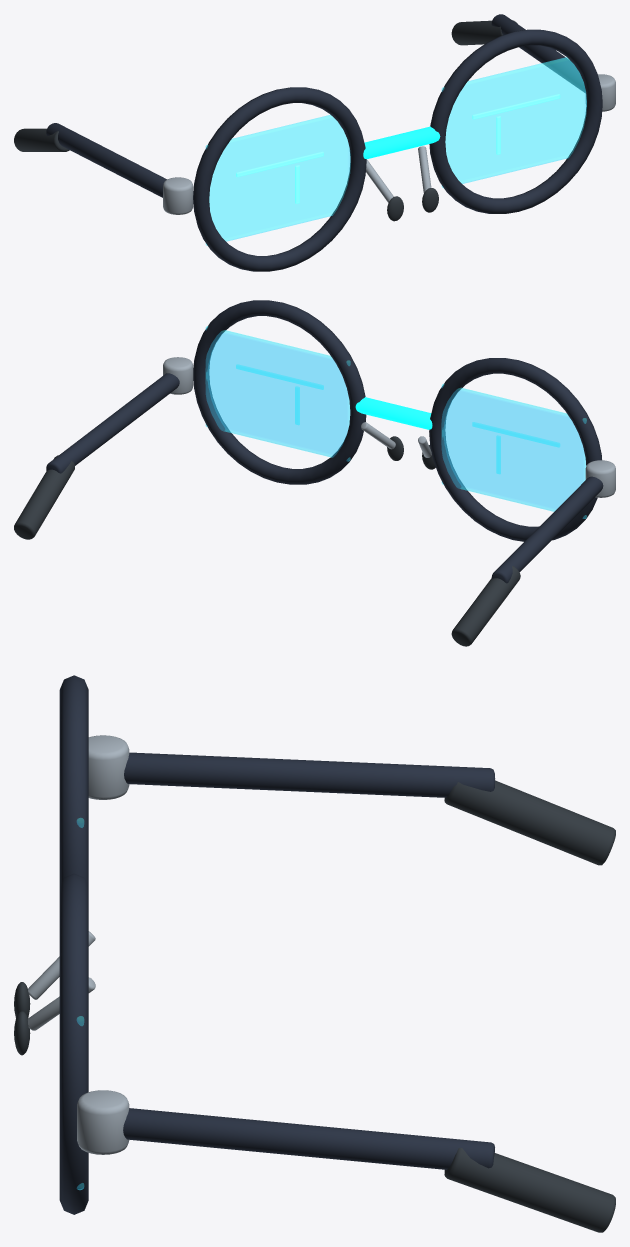
Rendered from cyber_glasses.glb.
3 renders of one model, top to bottom at view 1: azimuth 30°, elevation 25°; view 2: azimuth 150°, elevation 25°; view 3: azimuth 270°, elevation 25°, orthographic. The views are drawn at different scales.
Parts seen in each view (by area): view 1: Right_SmartLens, Left_SmartLens, Left_LensRim, Right_LensRim, Left_TempleArm, Right_TempleArm, NoseBridge, Left_Hinge, Right_TempleGrip, Left_TempleGrip, Right_Hinge, Right_HUD_Bar (+3 smaller); view 2: Right_SmartLens, Left_SmartLens, Right_LensRim, Left_LensRim, Right_TempleArm, Left_TempleArm, Left_TempleGrip, Right_TempleGrip, NoseBridge, Right_Hinge, Left_Hinge; view 3: Left_TempleArm, Right_TempleArm, Right_LensRim, Right_TempleGrip, Left_TempleGrip, Left_LensRim, Right_Hinge, Left_Hinge.
Boxes of the visible parts, x1,y1,x2,y2 form: Right_SmartLens: [441, 57, 586, 188]; Left_SmartLens: [205, 115, 350, 245]; Left_LensRim: [193, 87, 366, 271]; Right_LensRim: [429, 29, 602, 213]; Left_TempleArm: [46, 123, 166, 197]; Right_TempleArm: [491, 14, 585, 92]; NoseBridge: [363, 126, 440, 159]; Left_Hinge: [163, 177, 193, 214]; Right_TempleGrip: [451, 20, 517, 45]; Left_TempleGrip: [14, 128, 69, 151]; Right_Hinge: [586, 74, 615, 111]; Right_HUD_Bar: [472, 94, 560, 119]; Right_SmartLens: [205, 326, 350, 461]; Left_SmartLens: [441, 384, 586, 518]; Right_LensRim: [193, 300, 366, 484]; Left_LensRim: [429, 358, 601, 541]; Right_TempleArm: [46, 373, 179, 473]; Left_TempleArm: [491, 476, 603, 583]; Left_TempleGrip: [451, 566, 520, 646]; Right_TempleGrip: [14, 455, 74, 539]; NoseBridge: [355, 397, 432, 429]; Right_Hinge: [163, 357, 193, 394]; Left_Hinge: [585, 460, 615, 497]; Left_TempleArm: [124, 752, 495, 797]; Right_TempleArm: [123, 1108, 494, 1169]; Right_LensRim: [59, 873, 88, 1214]; Right_TempleGrip: [444, 1148, 615, 1232]; Left_TempleGrip: [444, 780, 615, 865]; Left_LensRim: [59, 675, 88, 887]; Right_Hinge: [77, 1090, 129, 1154]; Left_Hinge: [88, 735, 129, 799].
Size of the model in its own units: 0.3198 by 0.118 by 0.2079.
